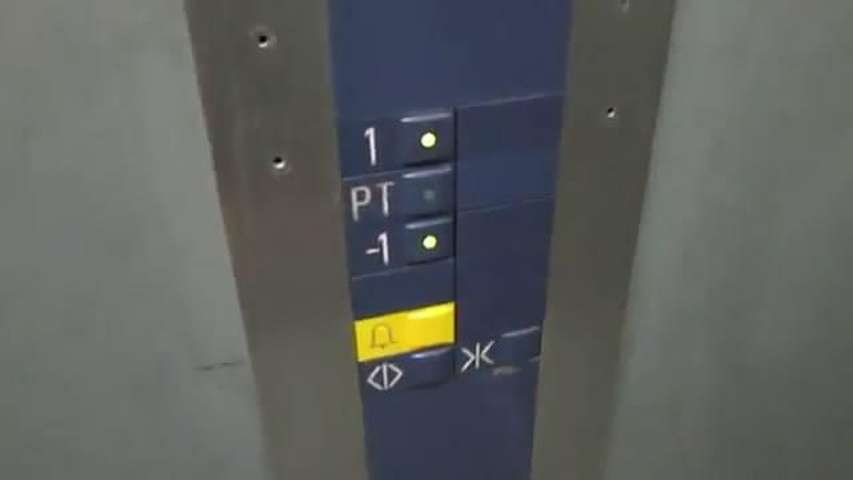-1: (346, 210, 460, 281)
1: (332, 108, 460, 178)
PT: (340, 158, 460, 233)
alarm: (350, 298, 459, 365)
close: (454, 320, 546, 381)
open: (355, 339, 459, 406)
